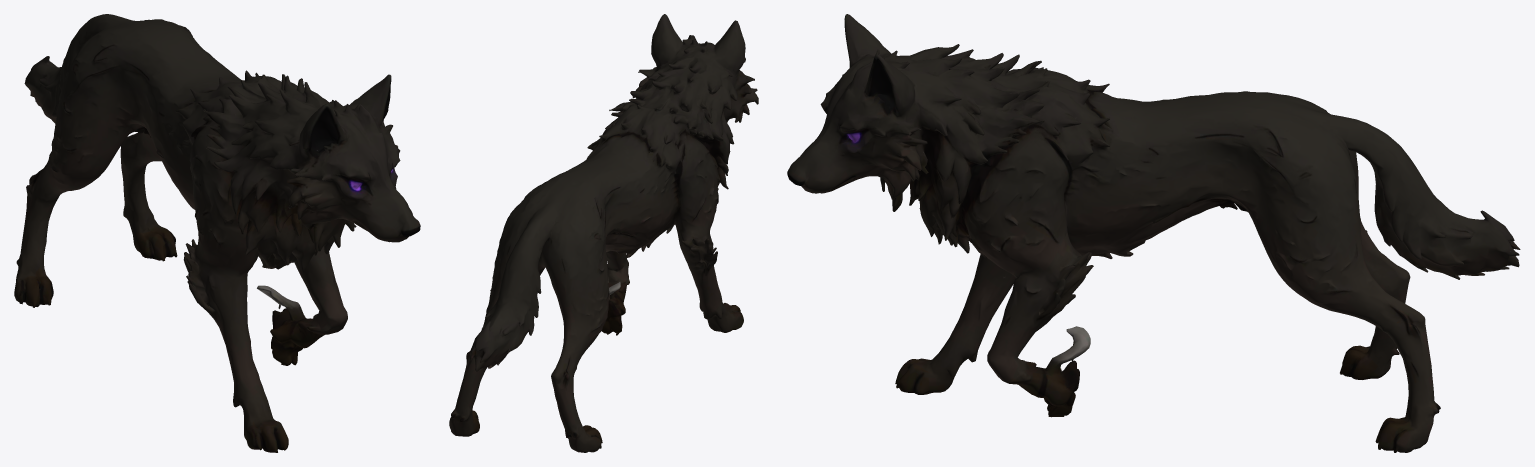
File: sable-howl.glb
3 views of the same model, side by side, from view 1: azimuth 30°, elevation 25°; view 2: azimuth 150°, elevation 25°; view 3: azimuth 270°, elevation 25° (orthographic). The views are drawn at different scales.
Visible parts, largest first — view 1: tripo_node_8bd43afa-01b6-4367-beb1-3e3ad42659e5; view 2: tripo_node_8bd43afa-01b6-4367-beb1-3e3ad42659e5; view 3: tripo_node_8bd43afa-01b6-4367-beb1-3e3ad42659e5.
Part boxes in pixels (left/top/right/bottom): tripo_node_8bd43afa-01b6-4367-beb1-3e3ad42659e5: left=14, top=14, right=420, bottom=452; tripo_node_8bd43afa-01b6-4367-beb1-3e3ad42659e5: left=449, top=14, right=758, bottom=452; tripo_node_8bd43afa-01b6-4367-beb1-3e3ad42659e5: left=787, top=14, right=1520, bottom=452.
Size of the model in its own units: 0.2958 by 0.5785 by 1.
1 material, 1 textured.
